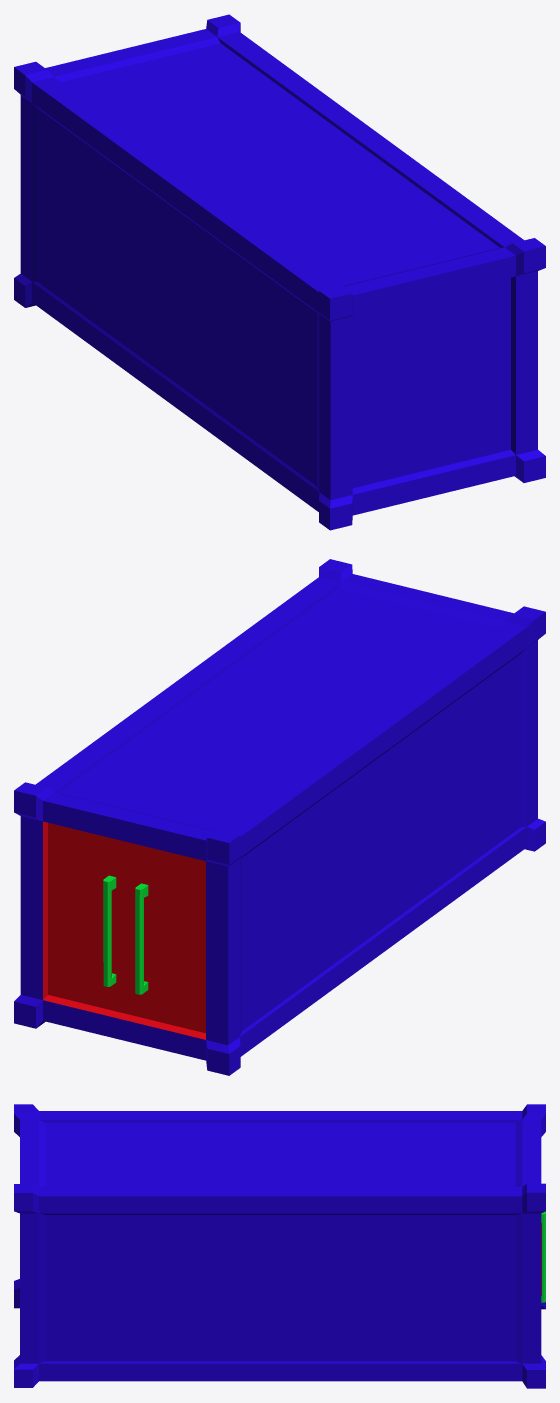
Rendered from conteiner5.fbx.
3 renders of one model, top to bottom at view 1: azimuth 30°, elevation 25°; view 2: azimuth 150°, elevation 25°; view 3: azimuth 270°, elevation 25°, orthographic. The views are drawn at different scales.
Visible parts, largest first — view 1: conteiner; view 2: conteiner; view 3: conteiner.
Part boxes in pixels (x1,y1,x2,y2): conteiner: (14, 14, 545, 530); conteiner: (14, 559, 545, 1075); conteiner: (14, 1104, 545, 1388).
Size of the model in its own units: 211 by 218 by 536.
